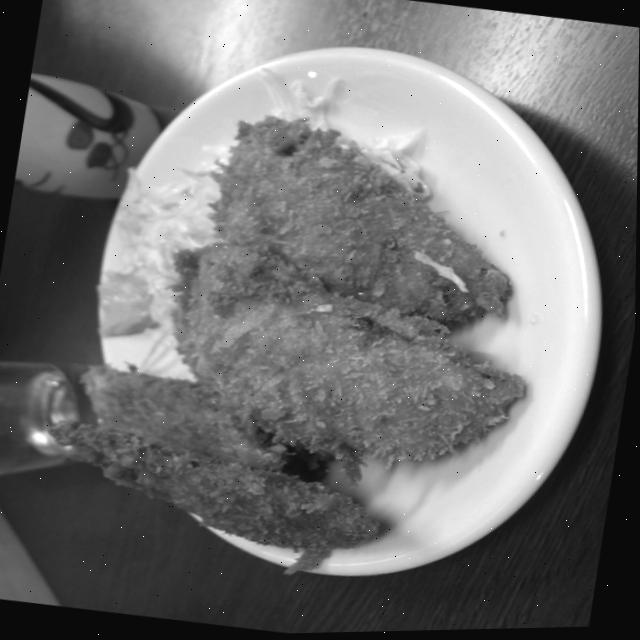炸货点心: (31, 37, 594, 605)
